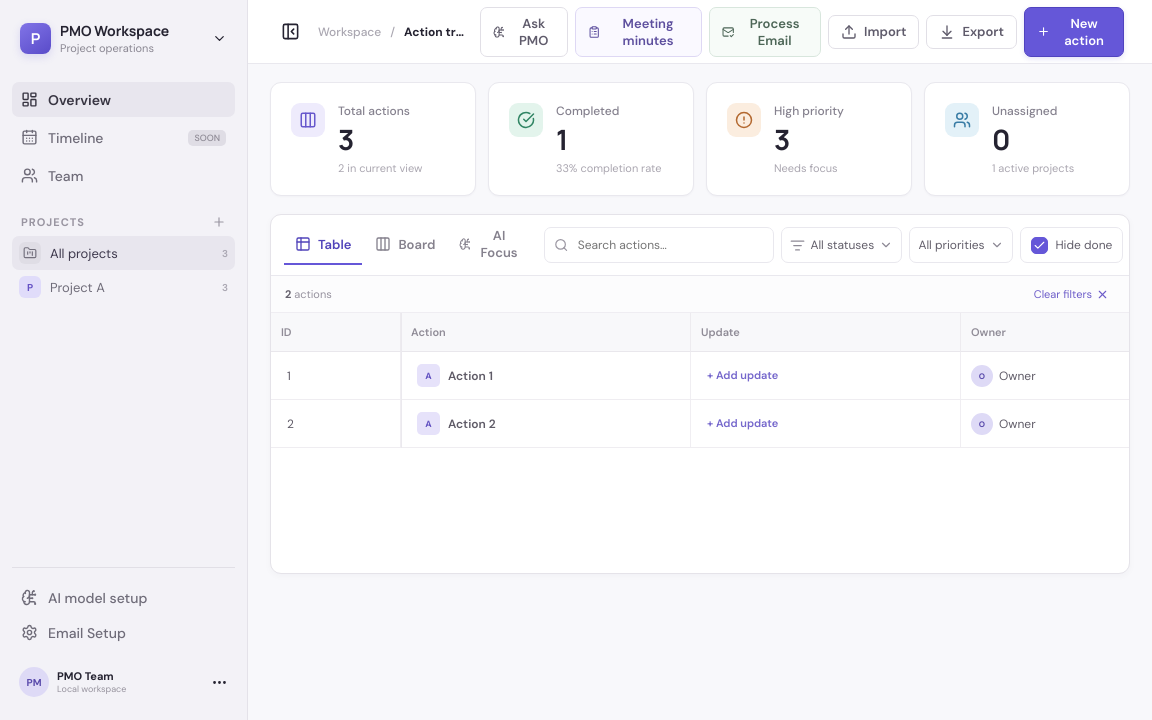
Test case: completed action filtering › hides done actions by default without deleting them
Expected: the button "A Action 1" is shown, 411,363 -> 680,388
Expected: the text "Action 3" is not shown
What coordinates should you click on to do the following:
click the checkbox labelled "Hide done"
I would click on:
 (1072, 245)
Its box is 1020,227 -> 1123,263.
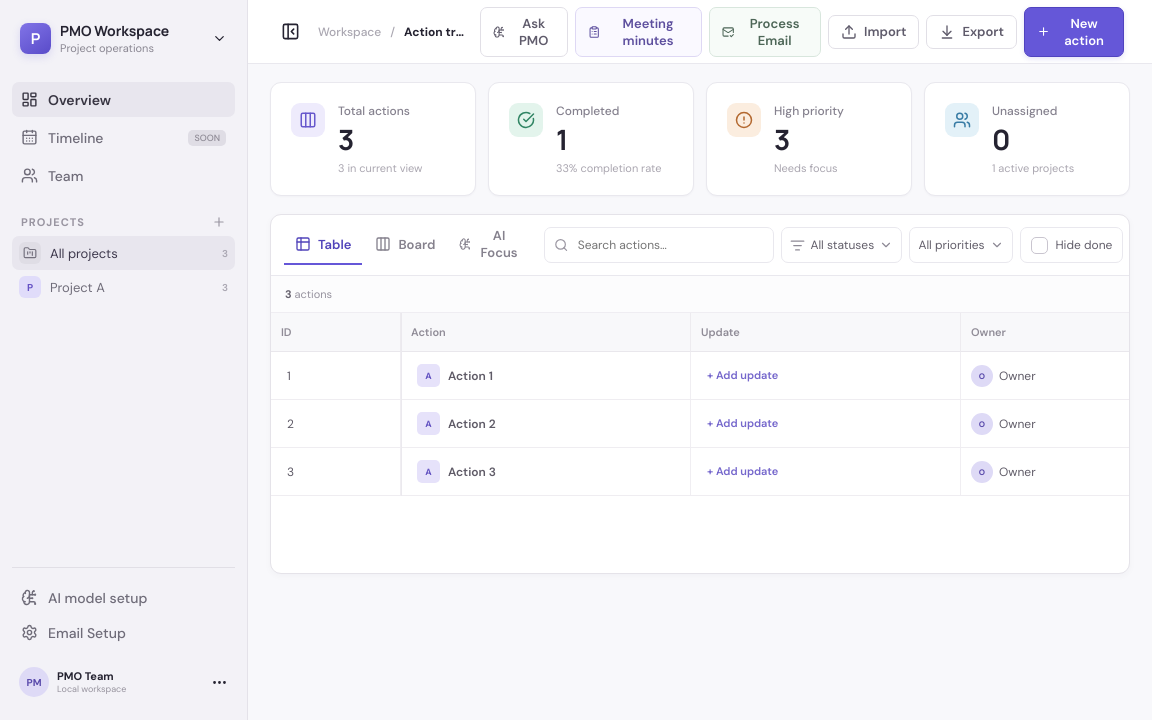
Now the button "A Action 3" is shown, box 411,459 -> 680,484
